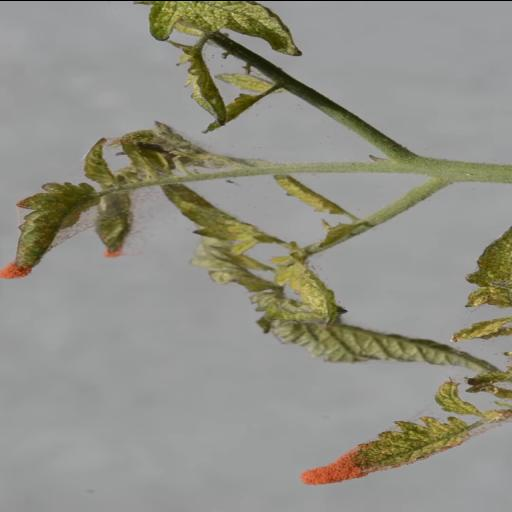disease_tomato: (134, 0, 302, 56), (160, 182, 280, 254), (353, 415, 467, 472), (269, 256, 337, 330)
